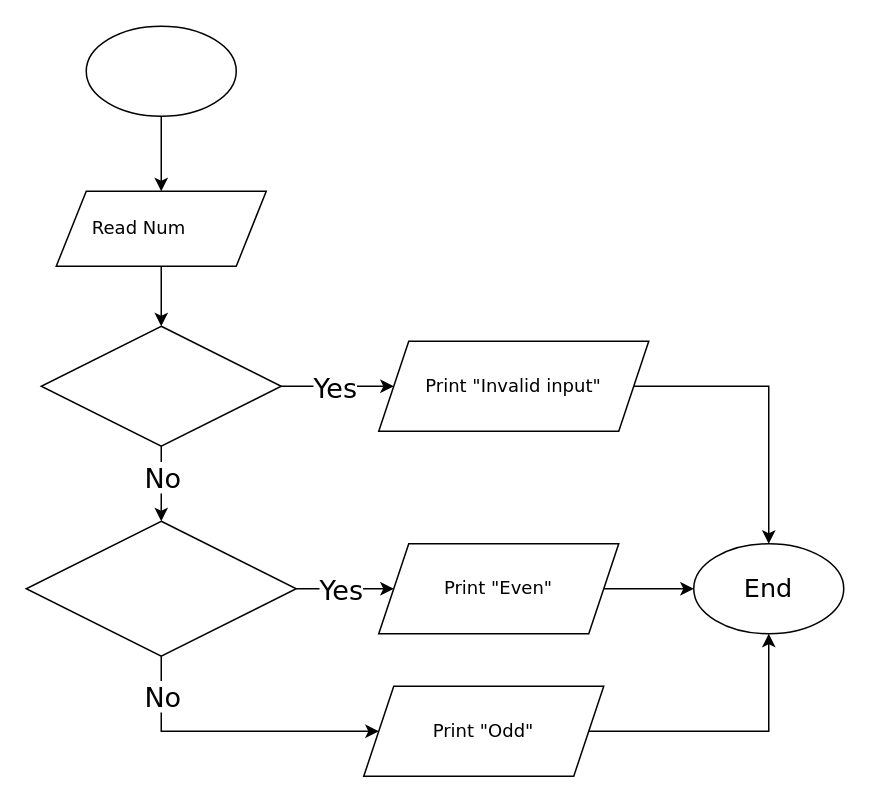
The diagram is 870 pixels wide and 803 high, and some of its shapes have lost their labels. Each missing label, with the centre of its shape:
"If Num % 2 == 0" goes at [160,588].
"If Num <= 0" goes at [160,385].
"Start" goes at [160,70].
